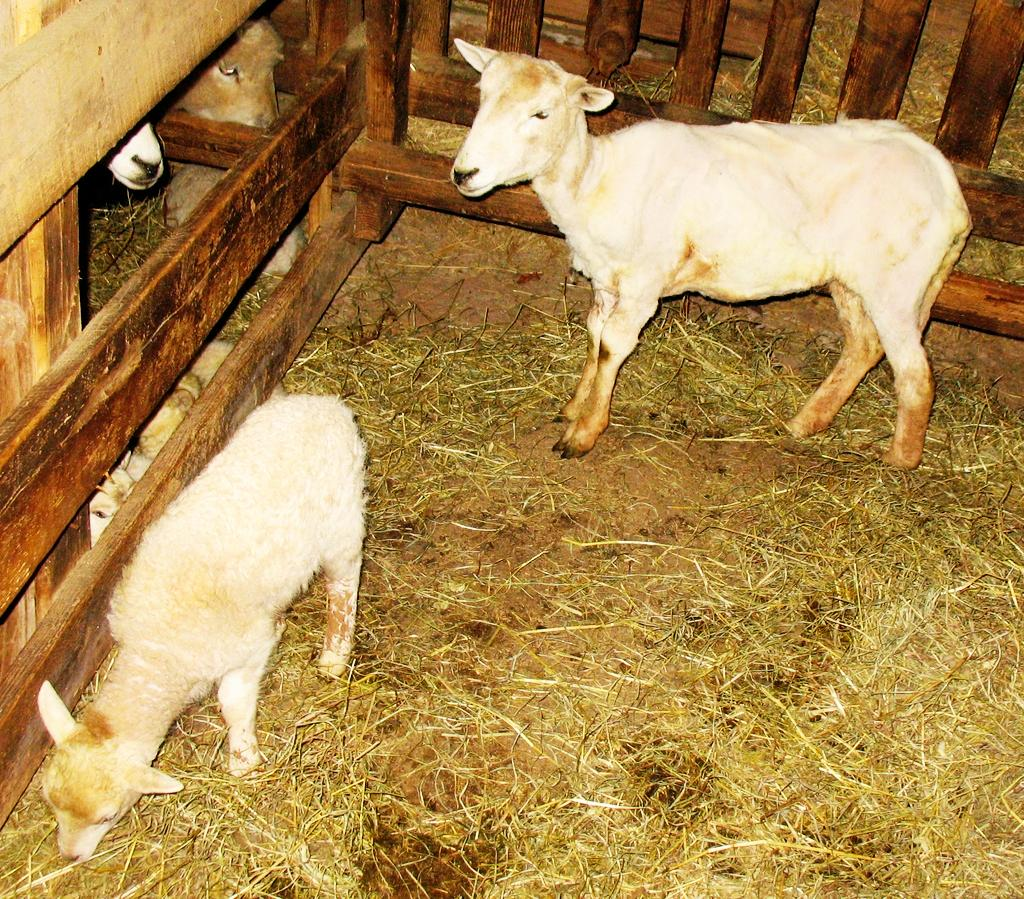Sheep: (452, 34, 980, 477), (31, 388, 377, 863), (104, 123, 169, 196)
